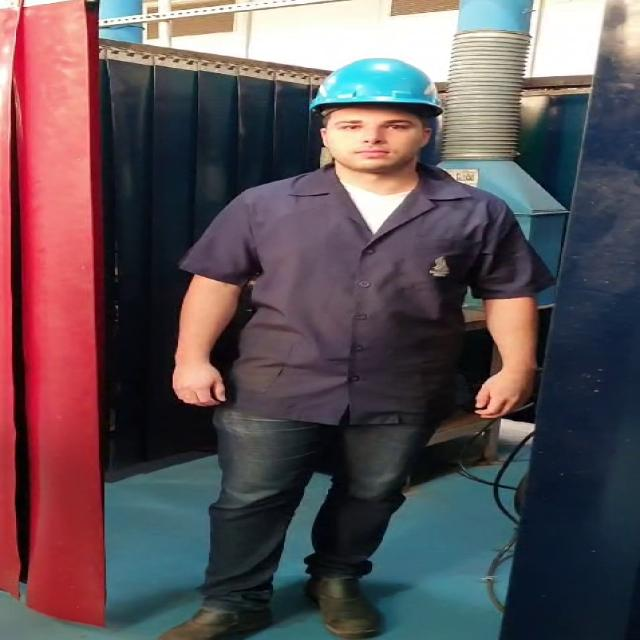sem_oculos: (311, 114, 449, 140)
